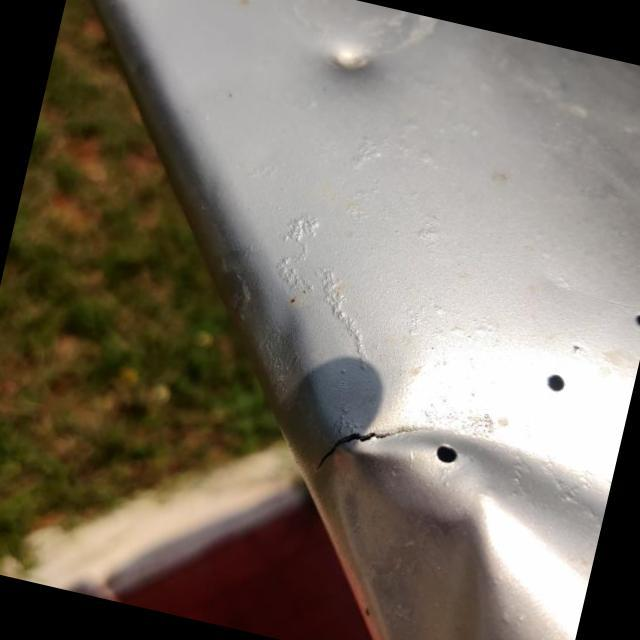Dent: (261, 348, 626, 640), (288, 2, 414, 120)
Rupture: (307, 392, 430, 499)
